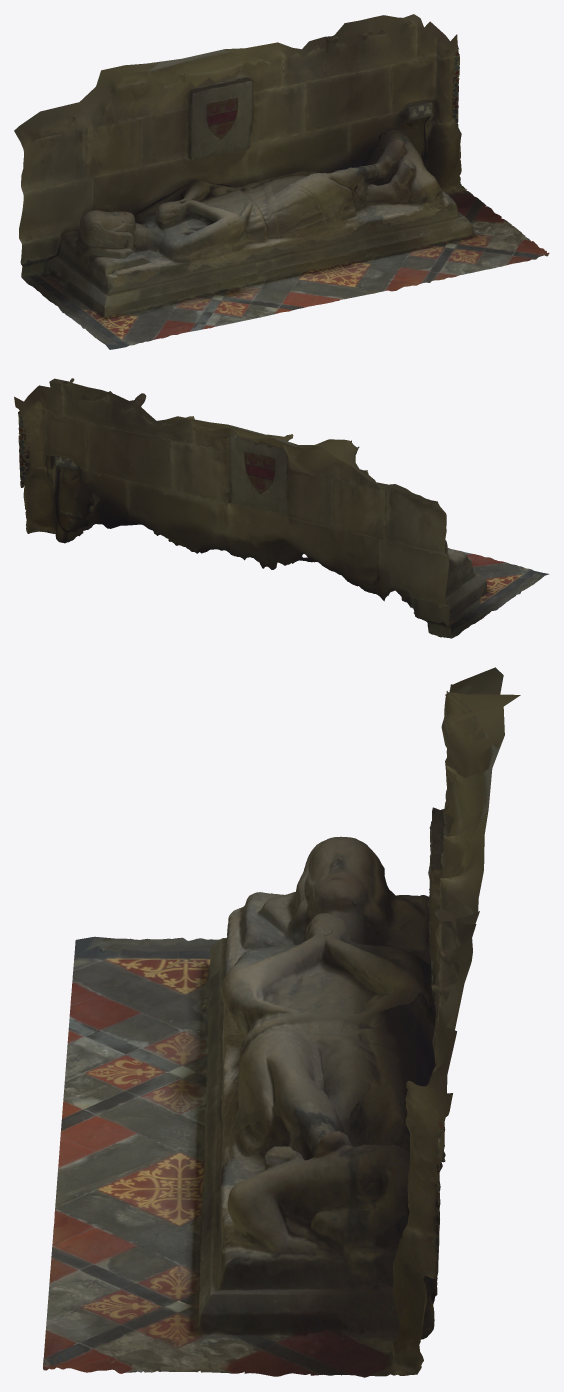
The picture shows the model from 3 angles, top to bottom: view 1: azimuth 30°, elevation 25°; view 2: azimuth 150°, elevation 25°; view 3: azimuth 270°, elevation 25°; orthographic projection. The views are drawn at different scales.
Parts seen in each view (by area): view 1: Model; view 2: Model; view 3: Model.
Part boxes in pixels (box(x1,y1,x2,y2)): Model: box(14, 14, 549, 349); Model: box(14, 378, 549, 638); Model: box(43, 667, 520, 1377).
Size of the model in its own units: 11.55 by 4.58 by 5.42.
1 material, 1 textured.
